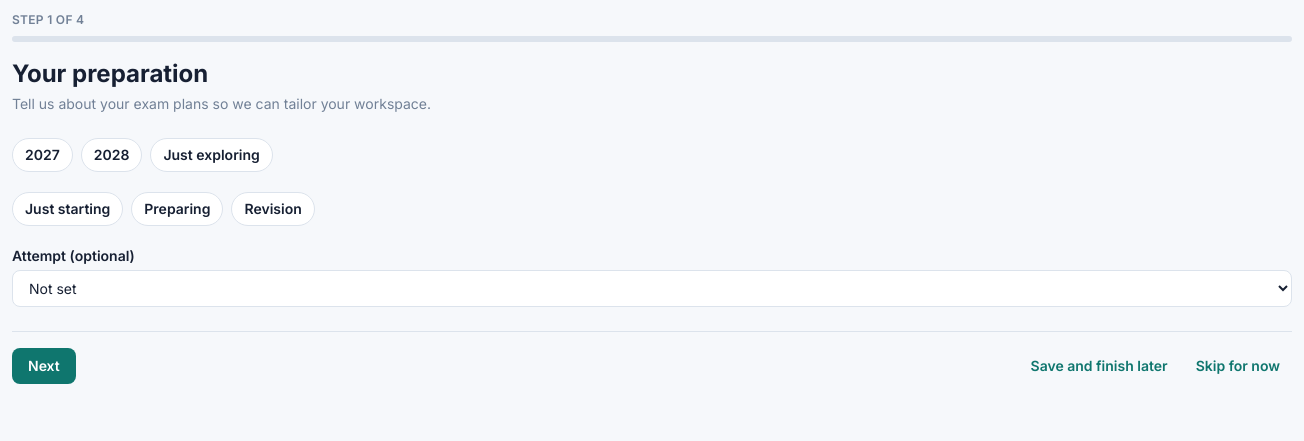
Wizard step 1 › does not advance until target year and stage are chosen
The width and height of the screenshot is (1304, 441).
Check: the heading "Your preparation" is shown, box top-left (12, 59), bottom-right (208, 88)
Click the button "Next": (44, 366) top-left (12, 348), bottom-right (76, 384)
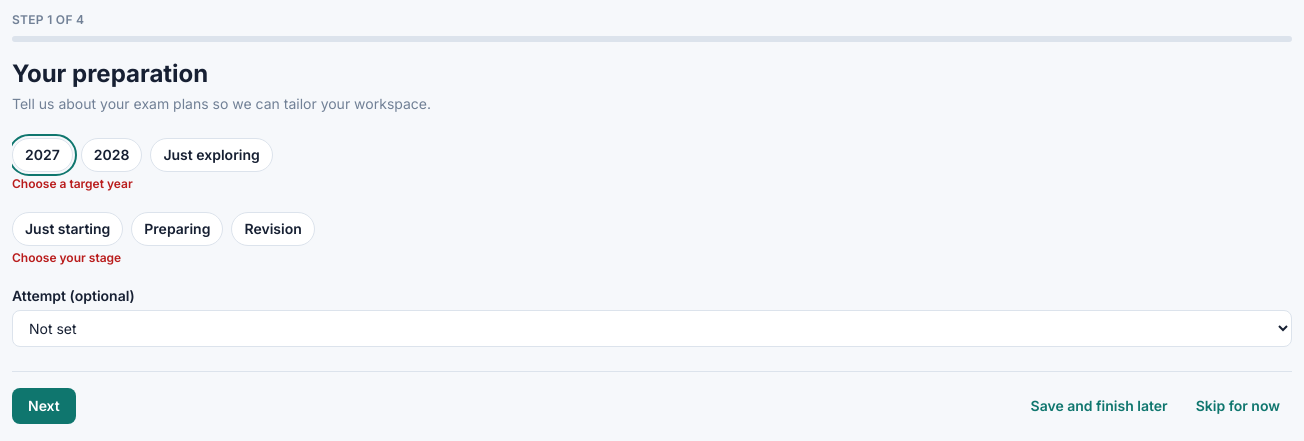
Check: the text "Choose a target year" is shown, box top-left (12, 176), bottom-right (133, 191)
Check: the text "Choose your stage" is shown, box top-left (12, 250), bottom-right (121, 265)
Click the radio button labelled "Just exploring": (212, 155) top-left (150, 138), bottom-right (273, 172)
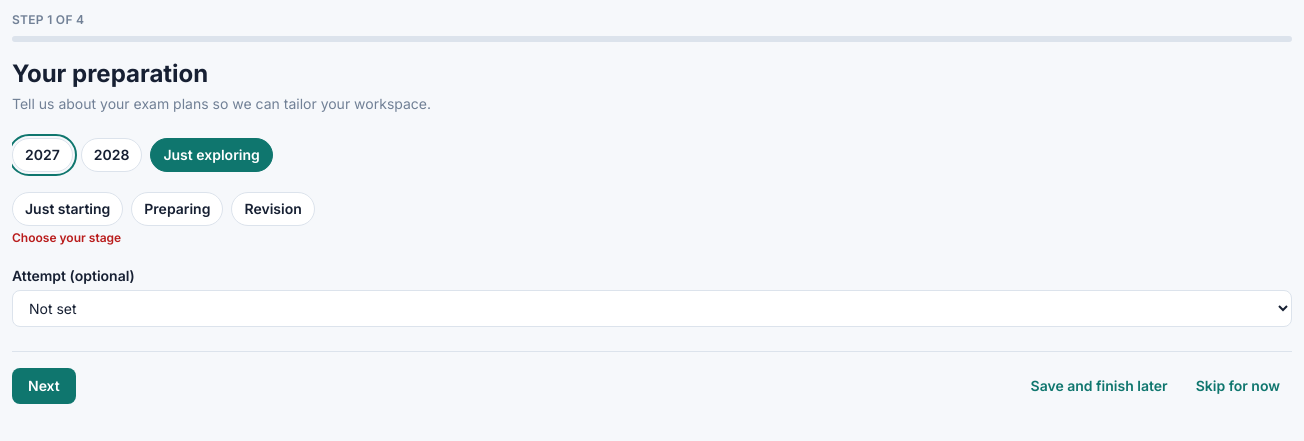
Click the button "Next": (44, 386) top-left (12, 368), bottom-right (76, 404)
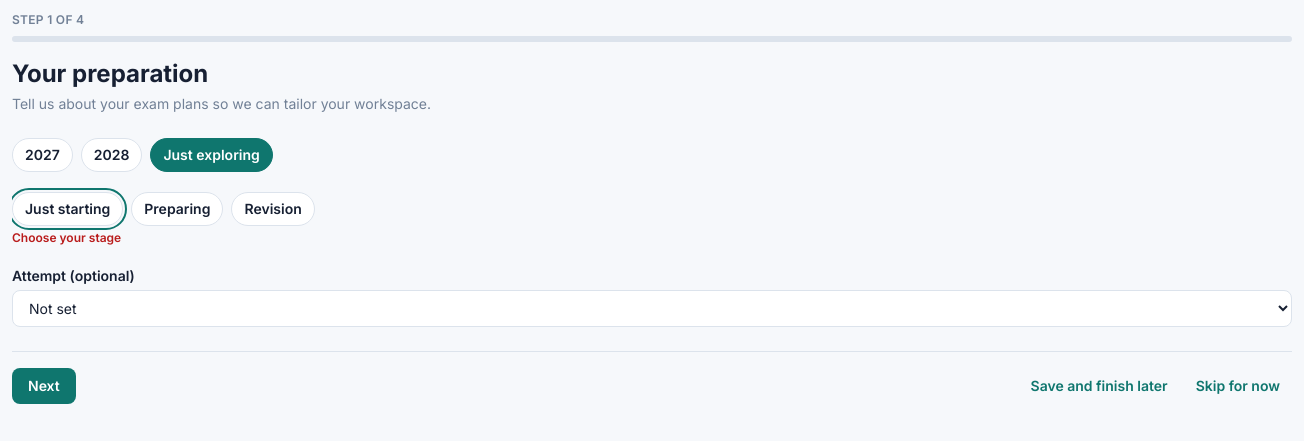
Click the radio button labelled "Preparing": (177, 209) top-left (131, 192), bottom-right (223, 226)
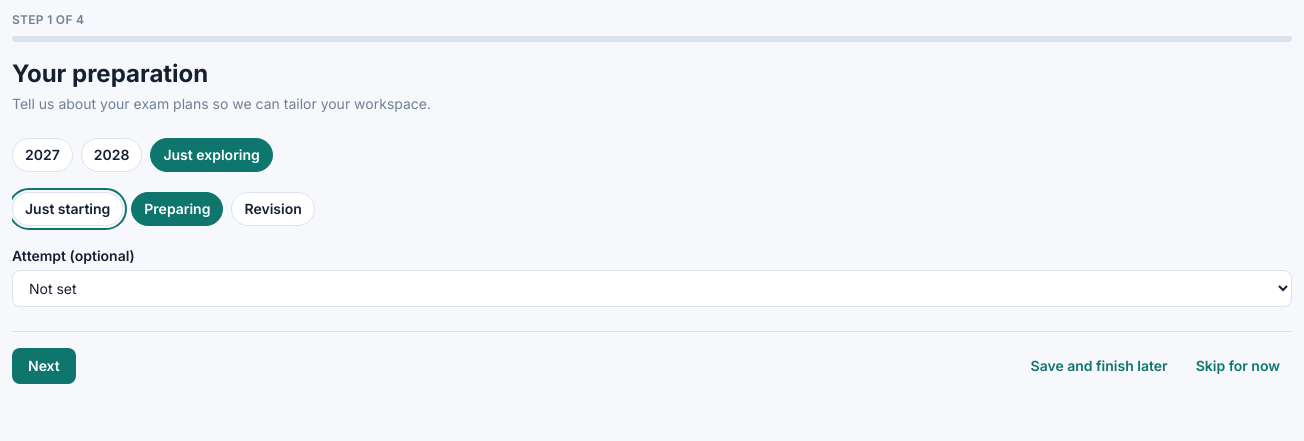
Click the button "Next": (44, 366) top-left (12, 348), bottom-right (76, 384)
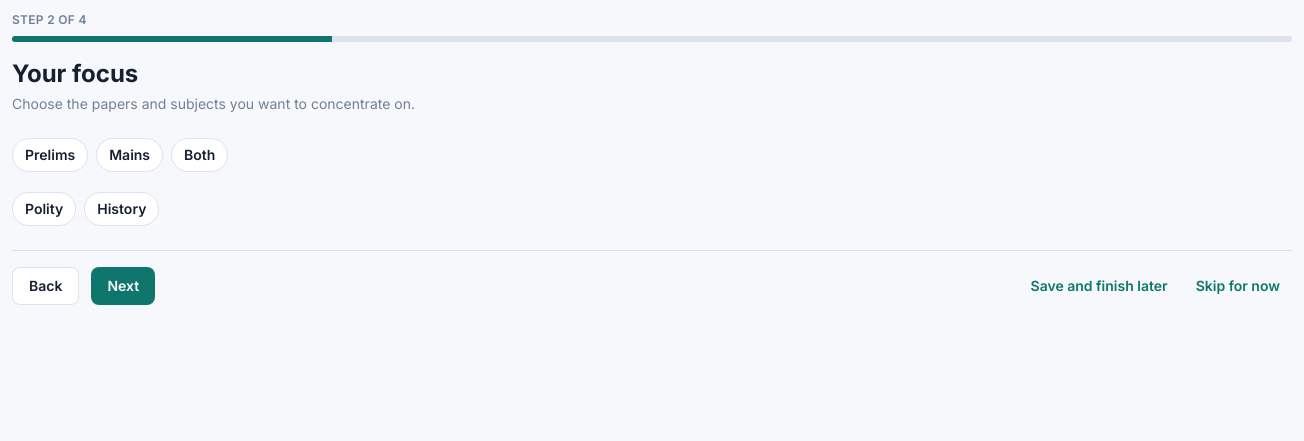
Check: the heading "Your focus" is shown, box top-left (12, 59), bottom-right (138, 88)
